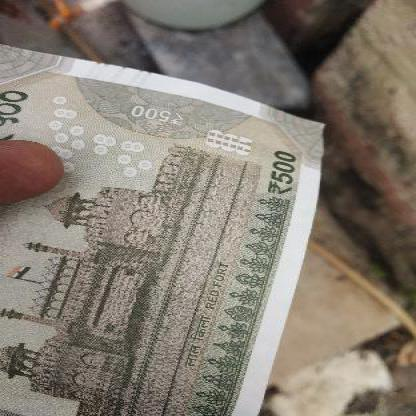New500Back: (0, 43, 307, 415)
